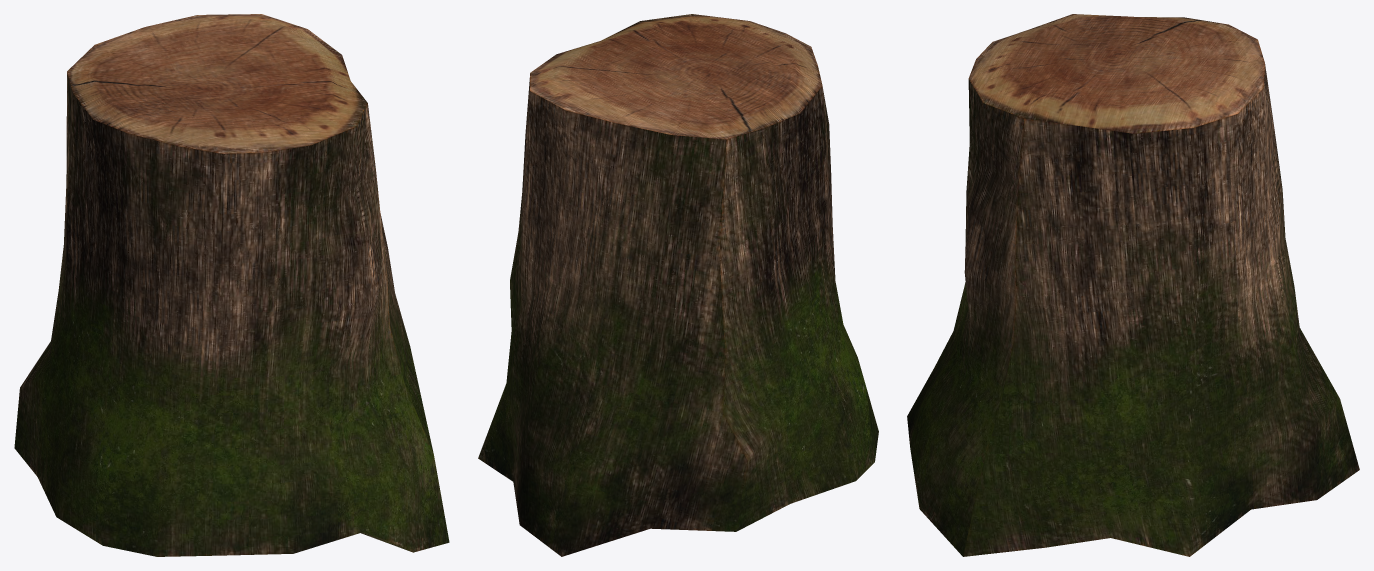
File: Trunk.fbx
3 views of the same model, side by side, from view 1: azimuth 30°, elevation 25°; view 2: azimuth 150°, elevation 25°; view 3: azimuth 270°, elevation 25° (orthographic). The views are drawn at different scales.
Parts seen in each view (by area): view 1: Trunk; view 2: Trunk; view 3: Trunk.
Part boxes in pixels (x1=…): Trunk: x1=14, y1=14, x2=449, y2=556; Trunk: x1=478, y1=14, x2=878, y2=556; Trunk: x1=907, y1=14, x2=1359, y2=556.
Size of the model in its own units: 49.13 by 59.33 by 56.71.
